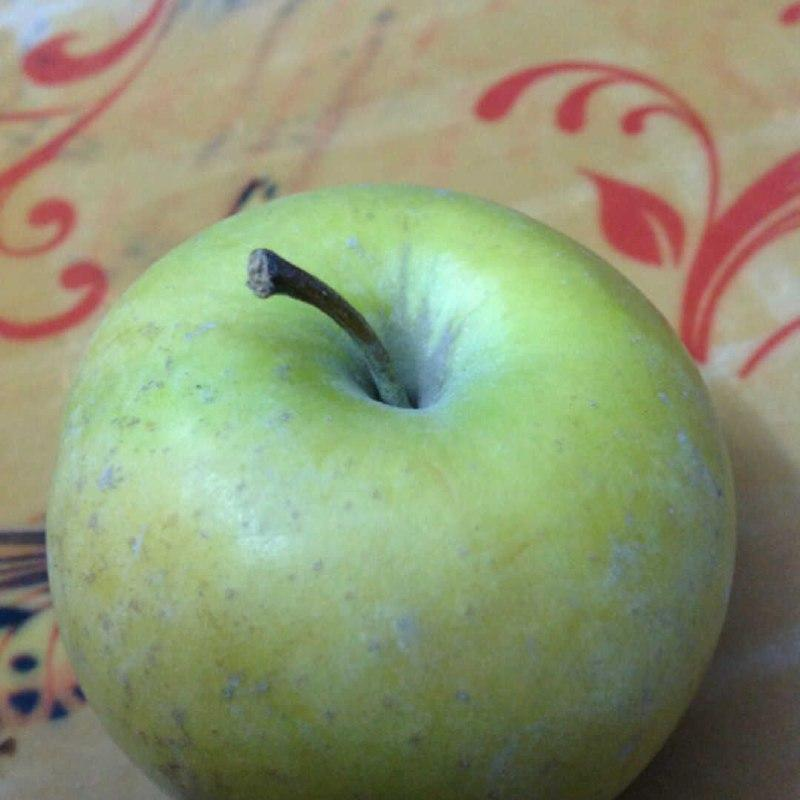Apple: (48, 184, 736, 800)
